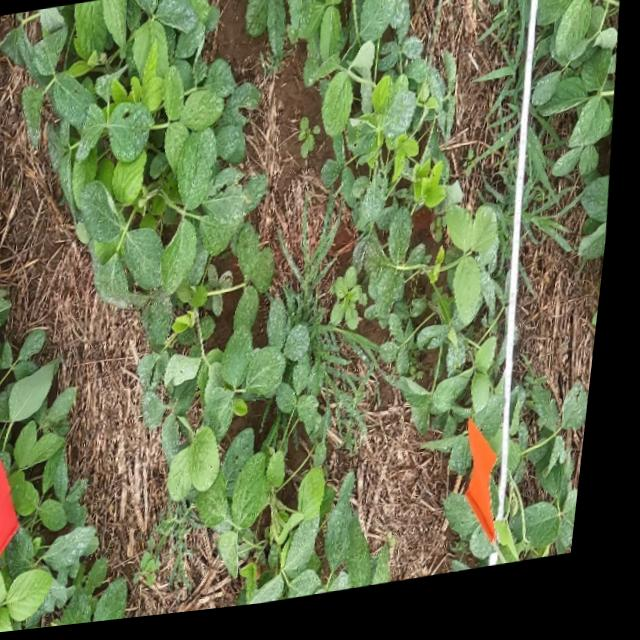caruru_weed: (302, 124, 324, 165)
grassy_weed: (469, 0, 532, 213), (279, 199, 349, 343), (330, 338, 384, 455), (147, 511, 215, 595), (535, 180, 584, 252), (530, 226, 579, 265), (535, 144, 558, 205), (512, 196, 521, 277), (276, 311, 292, 352)
soy_plant: (6, 0, 401, 612), (248, 0, 504, 439), (0, 288, 141, 635), (537, 0, 622, 274), (512, 390, 599, 577), (403, 350, 515, 487), (457, 504, 507, 579)
